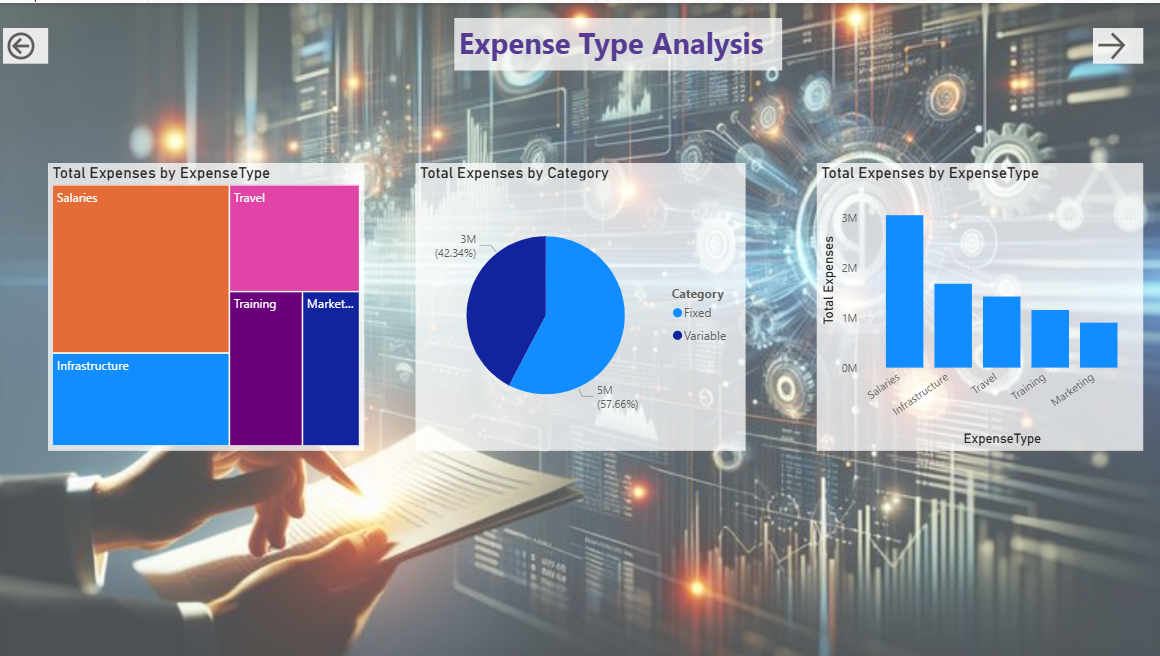

The dashboard page shown, as its layout file describes it:
{"tool":"powerbi","page":{"name":"Expense Type Analysis","canvas":[1280,720],"ordinal":2},"visuals":[{"type":"treemap","fields":{"Values":["Financial_Expense_Optimization_50Rows.Total Expenses"],"Group":["Financial_Expense_Optimization_50Rows.ExpenseType"]},"box":[54.9,175.6,347.2,315.6],"z":0},{"type":"pieChart","fields":{"Category":["Financial_Expense_Optimization_50Rows.Category"],"Y":["Financial_Expense_Optimization_50Rows.Total Expenses"]},"box":[458.3,175.6,362.3,315.6],"z":1000},{"type":"clusteredColumnChart","fields":{"Y":["Financial_Expense_Optimization_50Rows.Total Expenses"],"Category":["Financial_Expense_Optimization_50Rows.ExpenseType"]},"box":[898.8,175.6,358.1,315.6],"z":2000},{"type":"actionButton","box":[5.6,26.8,49.4,39.5],"z":2001},{"type":"actionButton","box":[1202.7,26.8,55.1,39.5],"z":2002},{"type":"textbox","box":[501.1,16.9,359.9,57.9],"z":2003}]}

Visuals, with their boxes in screenshot pixels (x1, y1, x2, y2), scaled from the page's 1280x720 canvas onto the 1160x656 screenshot:
treemap - Financial_Expense_Optimization_50Rows.Total Expenses x Financial_Expense_Optimization_50Rows.ExpenseType: bbox=(50, 160, 364, 448)
pieChart - Financial_Expense_Optimization_50Rows.Category x Financial_Expense_Optimization_50Rows.Total Expenses: bbox=(415, 160, 744, 448)
clusteredColumnChart - Financial_Expense_Optimization_50Rows.Total Expenses x Financial_Expense_Optimization_50Rows.ExpenseType: bbox=(815, 160, 1139, 448)
actionButton: bbox=(5, 24, 50, 60)
actionButton: bbox=(1090, 24, 1140, 60)
textbox: bbox=(454, 15, 780, 68)
